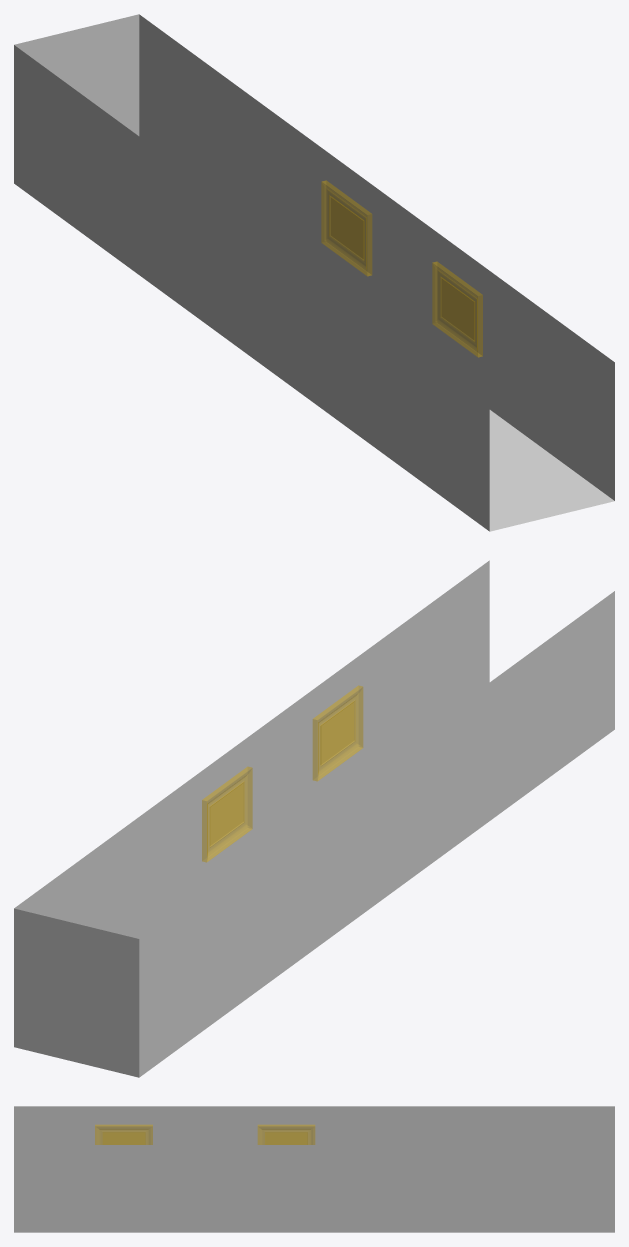
The model's file is ProjectsFloor.glb.
3 views of the same model, one above another, from view 1: azimuth 30°, elevation 25°; view 2: azimuth 150°, elevation 25°; view 3: azimuth 270°, elevation 25° (orthographic). The views are drawn at different scales.
Parts seen in each view (by area): view 1: Plane, SM_frame_01.003, SM_frame_01.002; view 2: Plane, SM_frame_01.003, SM_frame_01.002; view 3: Plane, SM_frame_01, SM_frame_01.001.
Part boxes in pixels (x1,y1,x2,y2): Plane: (14,14,614,531); SM_frame_01.003: (321,180,371,276); SM_frame_01.002: (432,262,482,357); Plane: (14,560,614,1077); SM_frame_01.003: (202,767,252,862); SM_frame_01.002: (313,685,362,781); Plane: (14,1106,614,1232); SM_frame_01: (95,1125,152,1144); SM_frame_01.001: (258,1125,314,1144).
Bounding box in the file's own units: 2.75 × 2.91 × 18.08.
